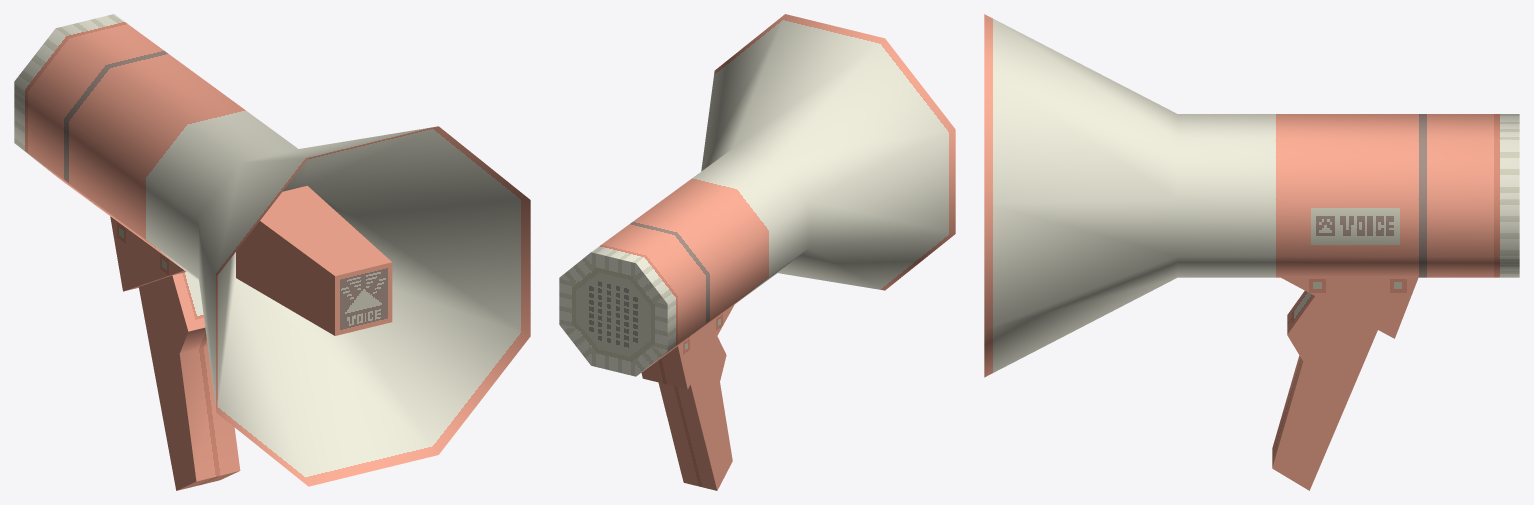
The model's file is 0004_Megaphone.glb.
3 renders of one model, left to right at view 1: azimuth 30°, elevation 25°; view 2: azimuth 150°, elevation 25°; view 3: azimuth 270°, elevation 25°, orthographic. The views are drawn at different scales.
Parts seen in each view (by area): view 1: part_0; view 2: part_0; view 3: part_0.
Part boxes in pixels (x1,y1,x2,y2): part_0: (14,14,530,490); part_0: (559,14,955,490); part_0: (984,14,1519,490).
Bounding box in the file's own units: 0.1478 × 0.2122 × 0.2354.
Materials: 1 (1 with a texture image).
